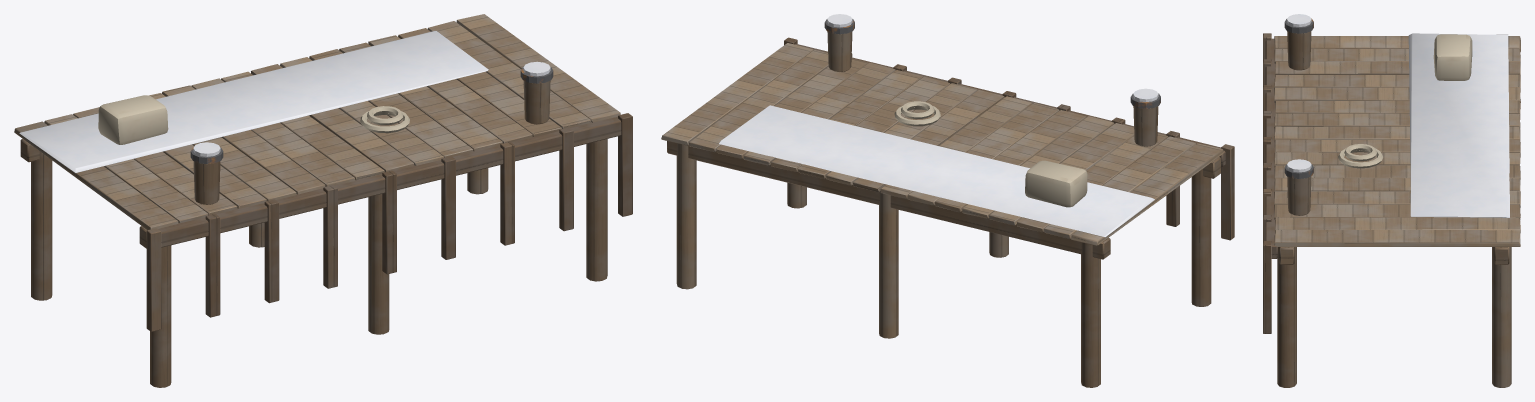
The model's file is dock_wharf.glb.
The picture shows the model from 3 angles, left to right: view 1: azimuth 30°, elevation 25°; view 2: azimuth 150°, elevation 25°; view 3: azimuth 270°, elevation 25°; orthographic projection. The views are drawn at different scales.
Parts seen in each view (by area): view 1: dock_wharf; view 2: dock_wharf; view 3: dock_wharf.
Boxes of the visible parts, <box> form: dock_wharf: <box>14,14,632,387</box>; dock_wharf: <box>661,14,1234,387</box>; dock_wharf: <box>1263,14,1520,387</box>.
Size of what is drawn, in the model's own units: 8.18 by 3.53 by 4.2.
6 materials, 6 textured.
